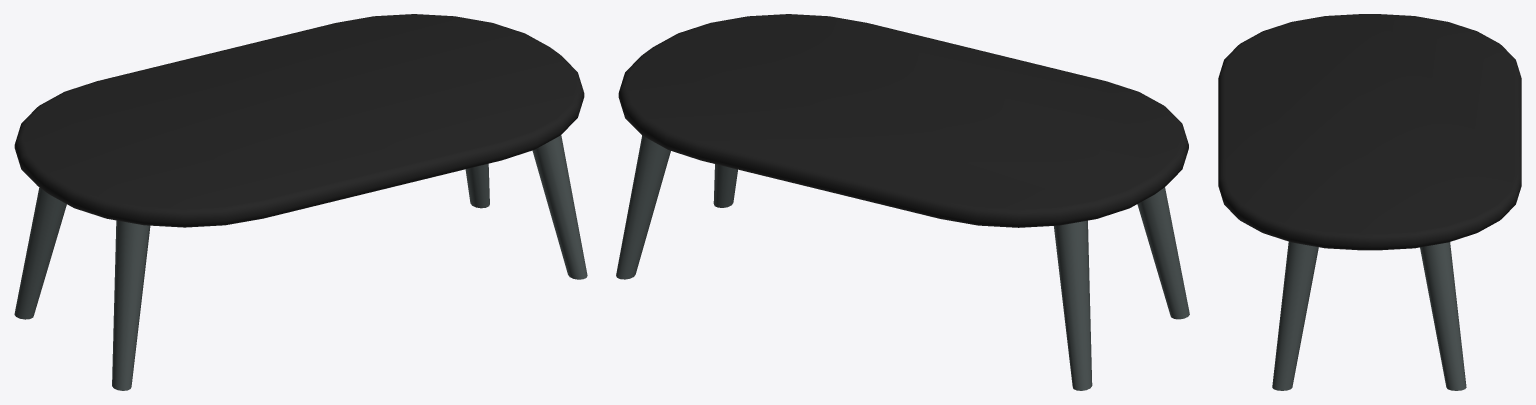
File: Secretary-Room-Coffie-Table.fbx
3 views of the same model, side by side, from view 1: azimuth 30°, elevation 25°; view 2: azimuth 150°, elevation 25°; view 3: azimuth 270°, elevation 25° (orthographic). The views are drawn at different scales.
Parts seen in each view (by area): view 1: Secretary-Room-Coffie-Table; view 2: Secretary-Room-Coffie-Table; view 3: Secretary-Room-Coffie-Table.
Boxes of the visible parts, x1=… form: Secretary-Room-Coffie-Table: x1=14, y1=14, x2=587, y2=390; Secretary-Room-Coffie-Table: x1=616, y1=14, x2=1189, y2=390; Secretary-Room-Coffie-Table: x1=1218, y1=14, x2=1521, y2=390.
Bounding box in the file's own units: 3.71 × 1.26 × 2.11.
